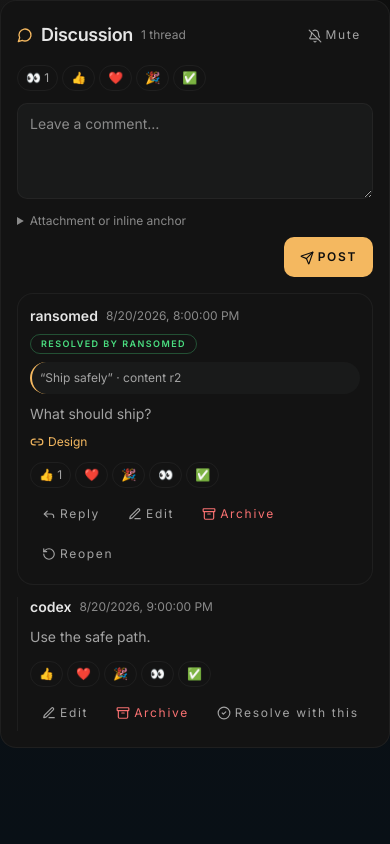
Test: DiscussionThread › opens a reply composer and exposes follow state
The image size is (390, 844).
Click the button "Reply" at (71, 514), box 30,496 -> 112,532
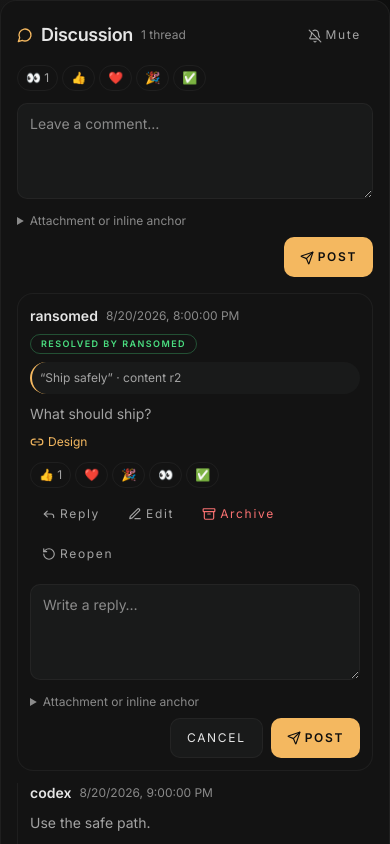
Expected: the button "Mute" is shown, 296,17 -> 373,53
Result: the text box named "Reply body" is shown at 30,584 -> 360,680
